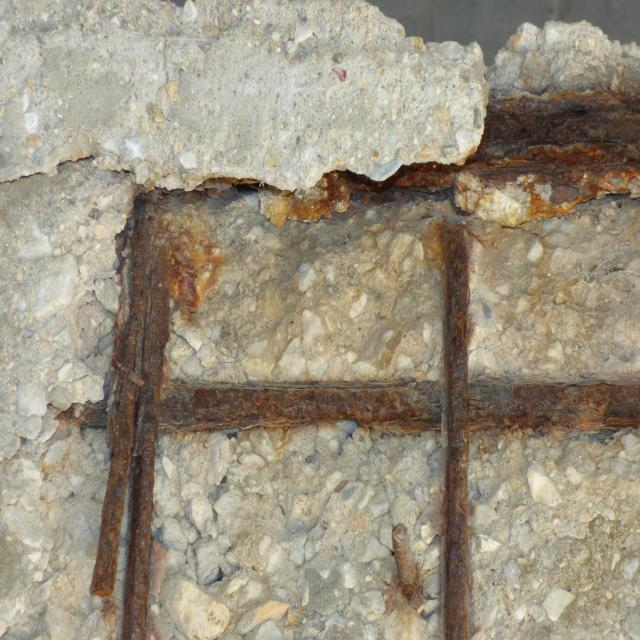corrosion: (43, 170, 640, 640), (465, 80, 640, 188)
